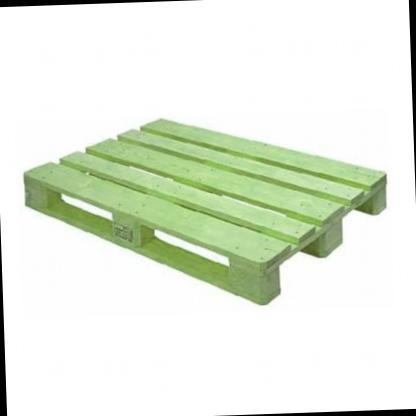BoxFace: (21, 120, 388, 311)
